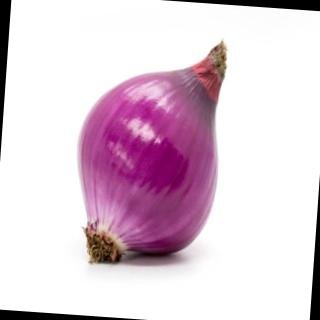Bawang Merah: (67, 25, 237, 278)
